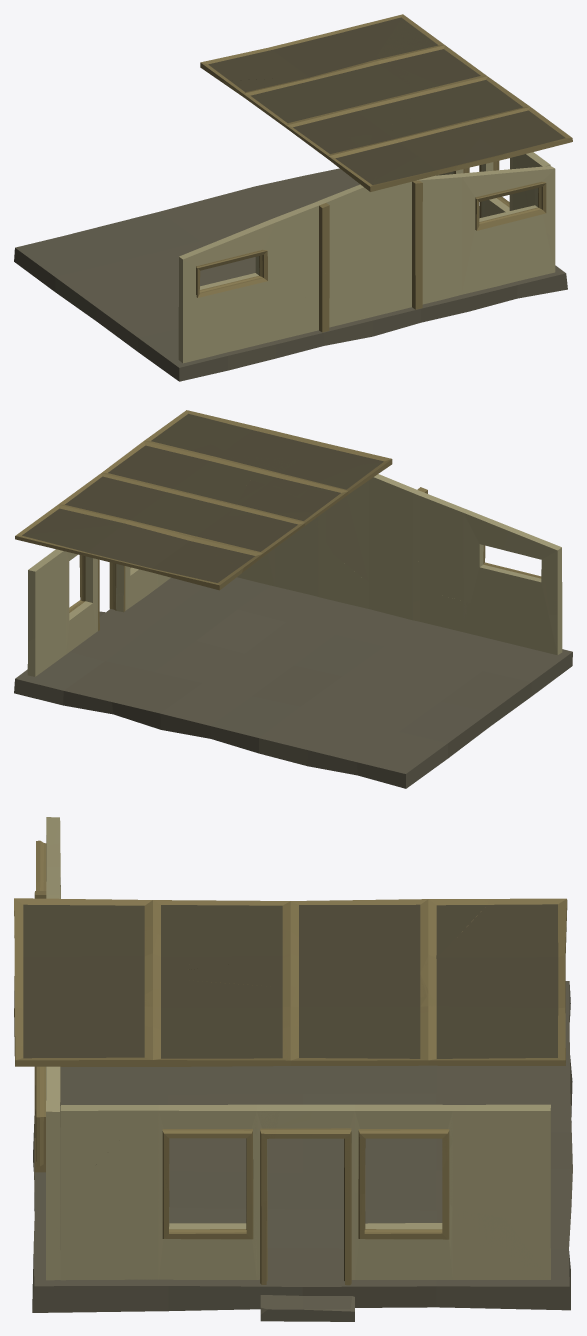
File: Home2.fbx
3 renders of one model, top to bottom at view 1: azimuth 30°, elevation 25°; view 2: azimuth 150°, elevation 25°; view 3: azimuth 270°, elevation 25°, orthographic. The views are drawn at different scales.
Parts seen in each view (by area): view 1: Foundation, PanelWhitGlass, Cube, PanelWhitGlass_cell.007, PanelWhitGlass_cell.010, Cube_cell.013, PanelWhitGlass_cell, PanelWhitGlass_cell.004, Cube_cell.006, Cube_cell.005, Cube_cell.002, PanelWhitGlass_cell.003 (+10 smaller); view 2: Foundation, PanelWhitGlass, Cube, PanelWhitGlass_cell, PanelWhitDoor, Cube_cell.013, PanelWhitGlass_cell.007, Cube_cell.006, Cube_cell.005, Cube_cell.002, Cube_cell.011, PanelWhitGlass_cell.002 (+11 smaller); view 3: Foundation, PanelWhitDoor, Cube, Cube_cell.013, Cube_cell.006, Cube_cell.011, Cube_cell.005, PanelWhitDoor_cell.006, Cube_cell.002, PanelWhitGlass, PanelWhitDoor_cell.005, PanelWhitDoor_cell.009 (+12 smaller).
Part boxes in pixels (x1,y1,x2,y2): Foundation: (14, 168, 567, 381); PanelWhitGlass: (178, 166, 555, 363); Cube: (201, 14, 572, 191); PanelWhitGlass_cell.007: (227, 184, 368, 309); PanelWhitGlass_cell.010: (400, 232, 550, 309); Cube_cell.013: (200, 14, 403, 82); PanelWhitGlass_cell: (303, 186, 415, 312); PanelWhitGlass_cell.004: (395, 168, 528, 235); Cube_cell.006: (223, 75, 339, 135); Cube_cell.005: (377, 18, 487, 88); Cube_cell.002: (365, 56, 492, 131); PanelWhitGlass_cell.003: (440, 213, 550, 265); Foundation: (14, 577, 572, 788); PanelWhitGlass: (237, 480, 562, 655); Cube: (15, 411, 392, 590); PanelWhitGlass_cell: (314, 481, 427, 606); PanelWhitDoor: (28, 549, 170, 676); Cube_cell.013: (15, 525, 243, 589); PanelWhitGlass_cell.007: (369, 474, 508, 603); Cube_cell.006: (174, 512, 315, 572); Cube_cell.005: (23, 462, 152, 534); Cube_cell.002: (116, 444, 239, 525); Cube_cell.011: (111, 410, 210, 469); PanelWhitGlass_cell.002: (395, 594, 497, 640); Foundation: (32, 981, 572, 1312); PanelWhitDoor: (60, 1104, 550, 1285); Cube: (14, 898, 566, 1066); Cube_cell.013: (420, 898, 567, 1062); Cube_cell.006: (249, 899, 488, 972); Cube_cell.011: (14, 1020, 276, 1066); Cube_cell.005: (204, 1011, 565, 1065); PanelWhitDoor_cell.006: (60, 1122, 158, 1280); Cube_cell.002: (107, 980, 449, 1029); PanelWhitGlass: (34, 817, 60, 1280); PanelWhitDoor_cell.005: (311, 1104, 466, 1197); PanelWhitDoor_cell.009: (60, 1109, 144, 1200).
Size of the model in its own units: 1080 by 400 by 799.
